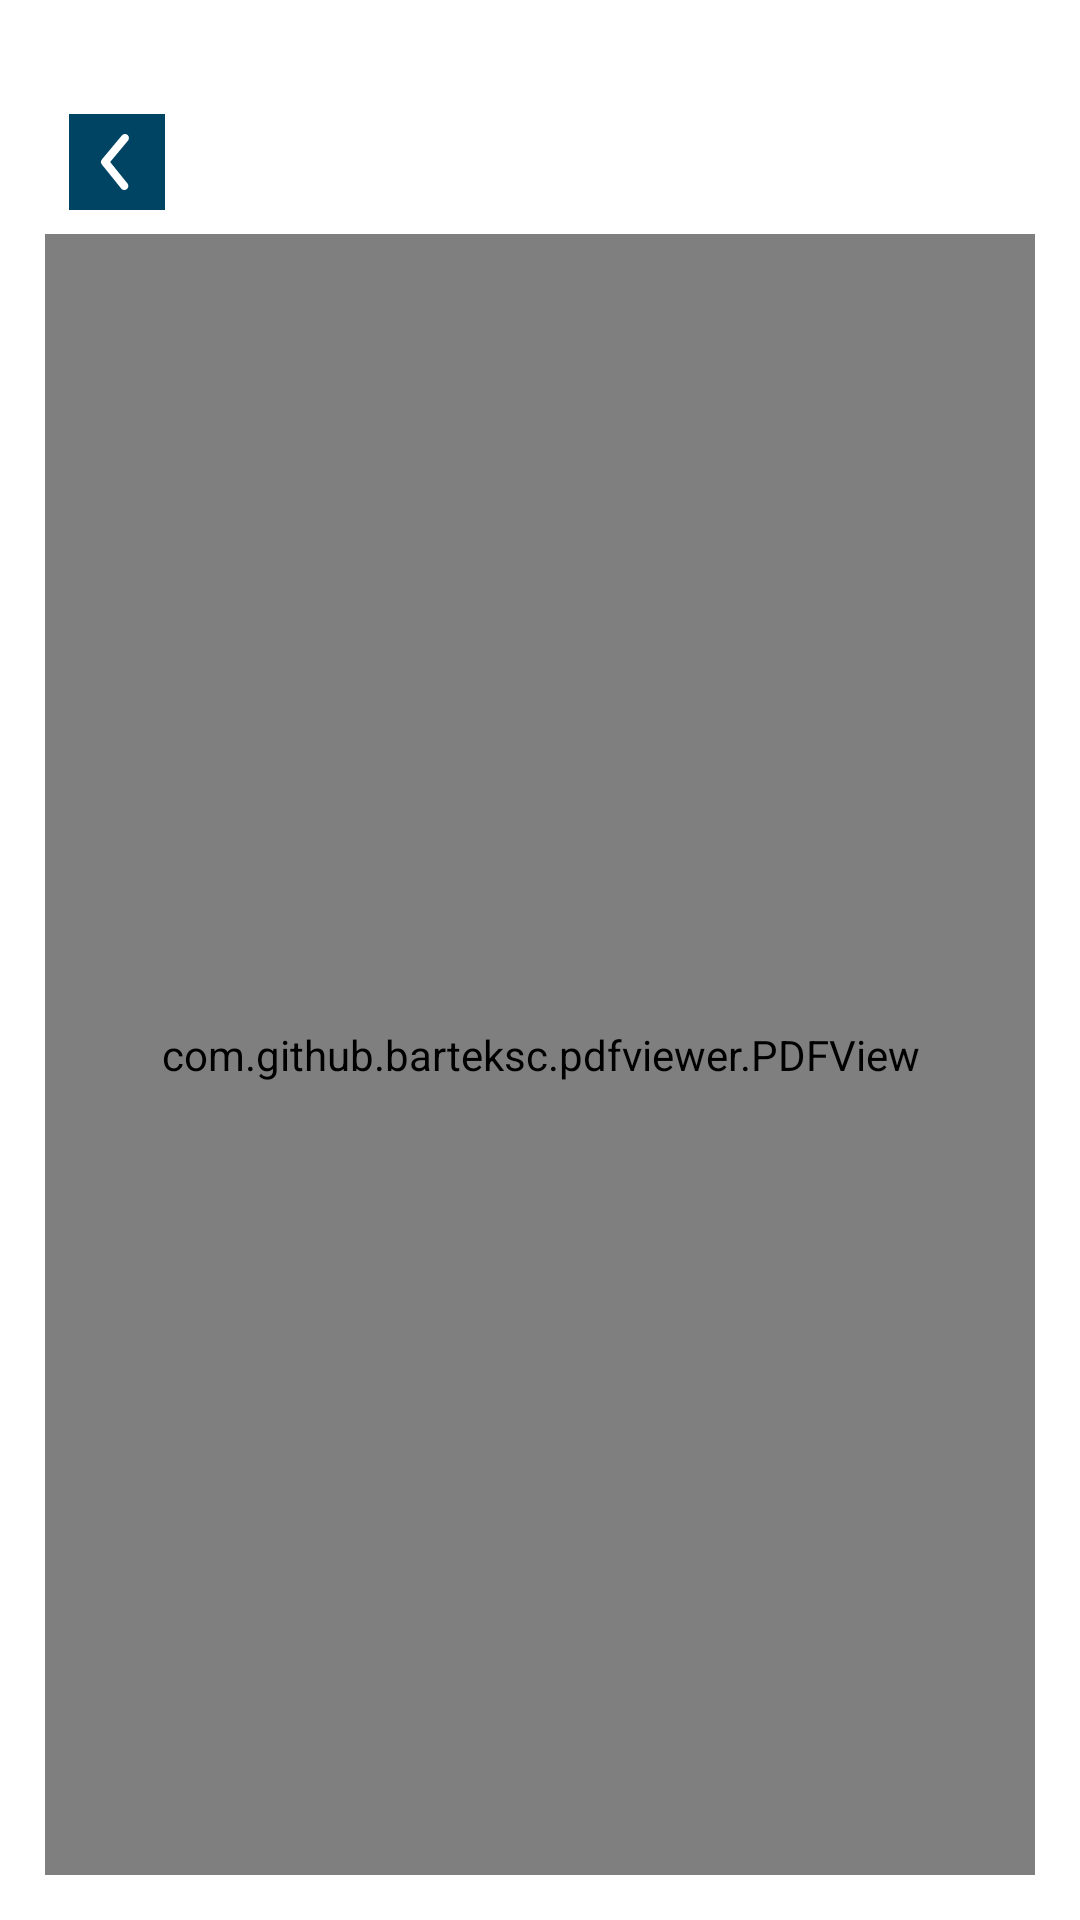

Screen size 1080*1920. Icon name, then its box in pixels as (x1, y1, x2, y2):
back: (69, 114, 165, 210)
